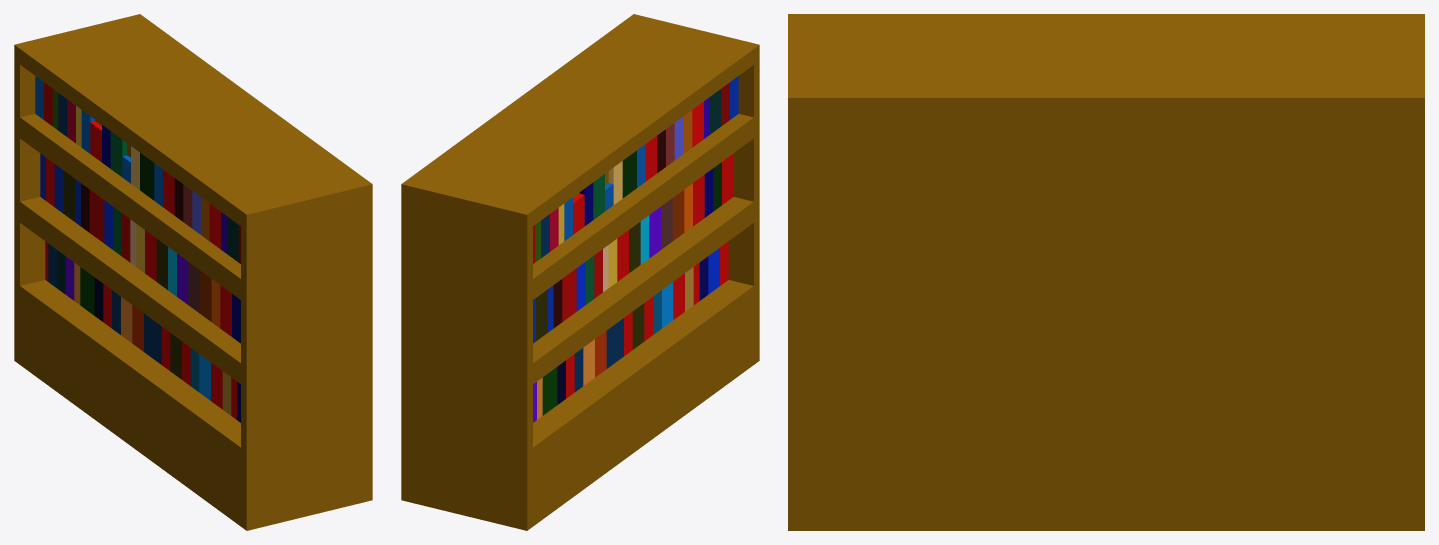
File: bookcase.glb
3 views of the same model, side by side, from view 1: azimuth 30°, elevation 25°; view 2: azimuth 150°, elevation 25°; view 3: azimuth 270°, elevation 25° (orthographic). The views are drawn at different scales.
Visible parts, largest first — view 1: Untitled; view 2: Untitled; view 3: Untitled.
Part boxes in pixels (bbox=[...]): Untitled: bbox=[14, 14, 372, 530]; Untitled: bbox=[401, 14, 759, 530]; Untitled: bbox=[788, 14, 1424, 530].
Bounding box in the file's own units: 1.25 × 3 × 4.
Materials: 1 (1 with a texture image).
